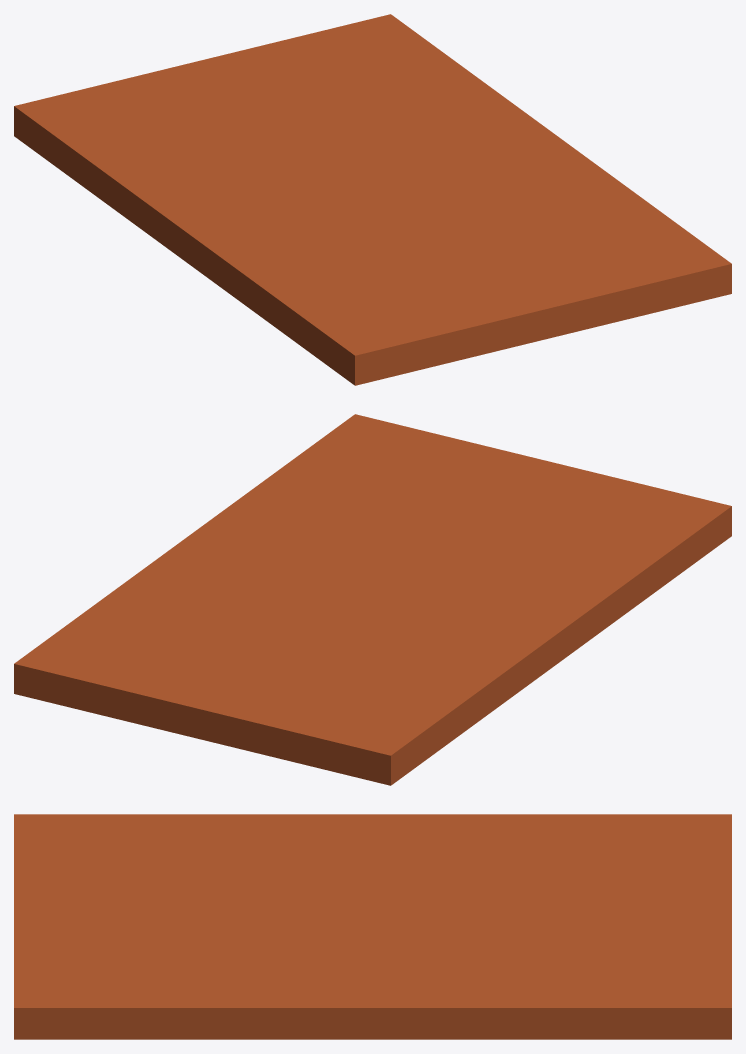
File: wings_t4.glb
The picture shows the model from 3 angles, top to bottom: view 1: azimuth 30°, elevation 25°; view 2: azimuth 150°, elevation 25°; view 3: azimuth 270°, elevation 25°; orthographic projection. The views are drawn at different scales.
Visible parts, largest first — view 1: geometry_0; view 2: geometry_0; view 3: geometry_0.
Boxes of the visible parts, left/top/right/bottom form: geometry_0: left=14, top=14, right=731, bottom=385; geometry_0: left=14, top=414, right=731, bottom=785; geometry_0: left=14, top=814, right=731, bottom=1039.
Bounding box in the file's own units: 1.18 × 0.09 × 1.85.
